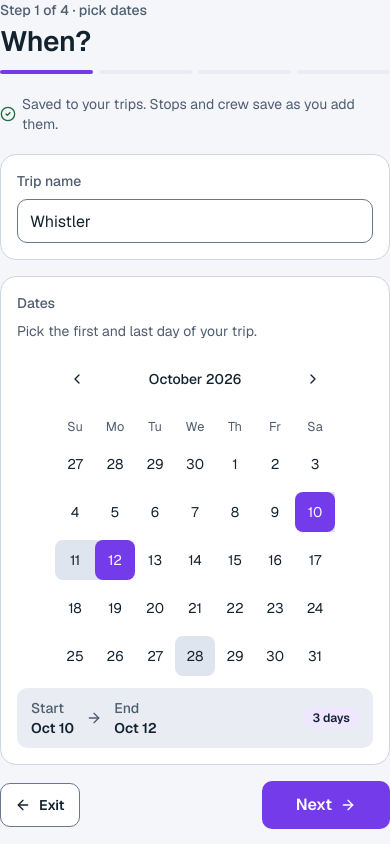
Scenario: New trip wizard › reviews each day's plan and the kept stays before changing trip dates
Check: the heading "When?" is shown, box top-left (0, 23), bottom-right (91, 59)
Click the button "14" at (195, 560), box top-left (175, 540), bottom-right (215, 580)
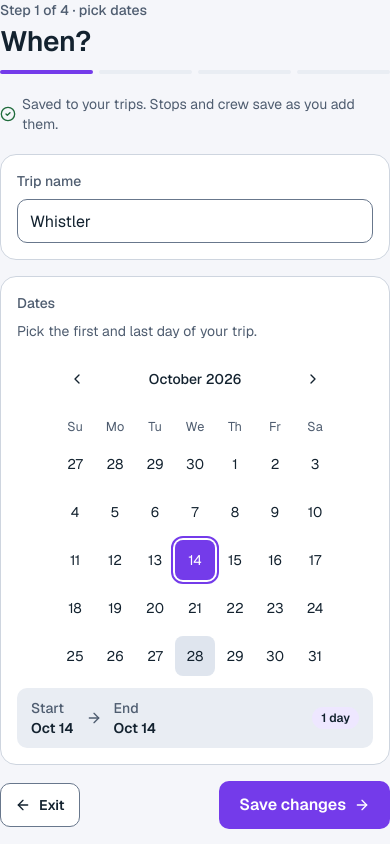
Click the button "16" at (275, 560), box top-left (255, 540), bottom-right (295, 580)
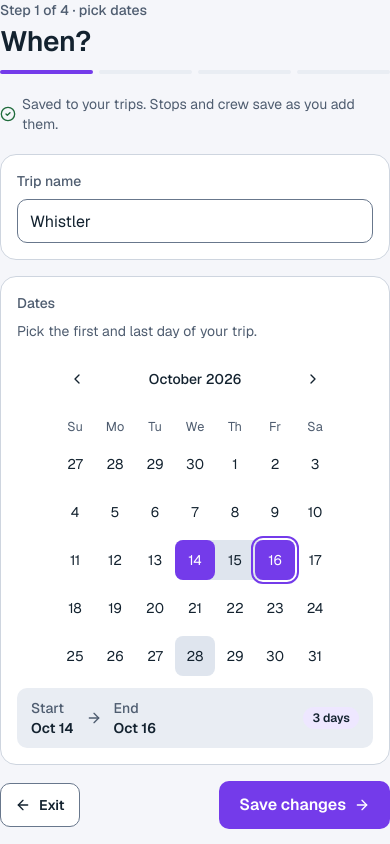
Click the button "Save changes" at (305, 805), box top-left (219, 781), bottom-right (389, 829)
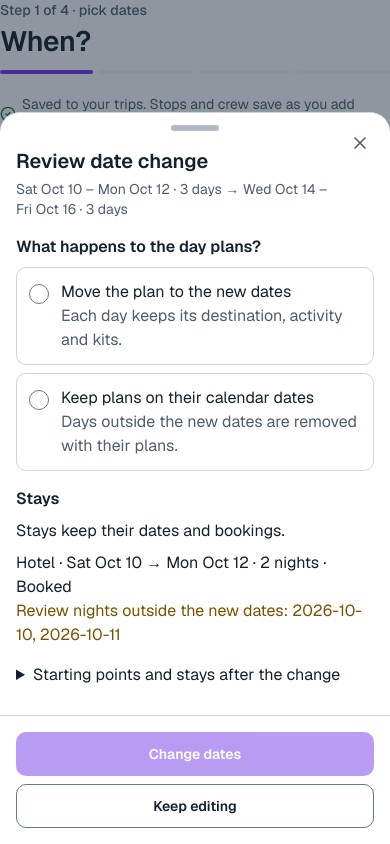
Check: the text "Stays keep their dates and bookings." is shown, box top-left (16, 520), bottom-right (285, 541)
Check: the text "Review nights outside the new dates: 2026-10-10, 2026-10-11" is shown, box top-left (16, 599), bottom-right (374, 647)
Click the radio button labelled "Move the plan" at (39, 294), box top-left (29, 284), bottom-right (49, 304)
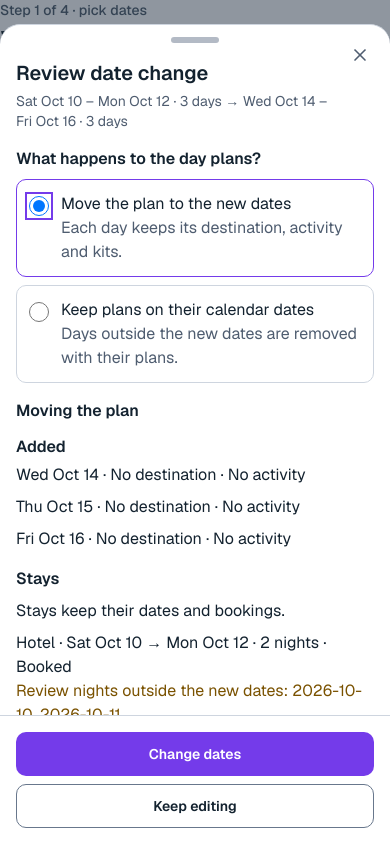
Click the button "Change dates" at (195, 754), box top-left (16, 732), bottom-right (374, 776)
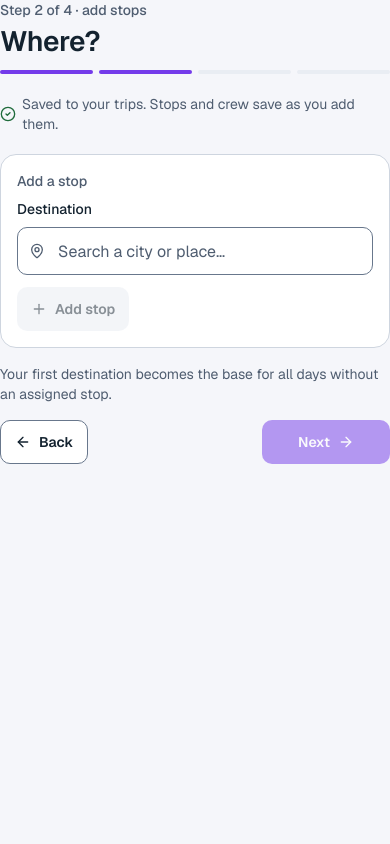
Check: the heading "Where?" is shown, box top-left (0, 23), bottom-right (100, 59)
